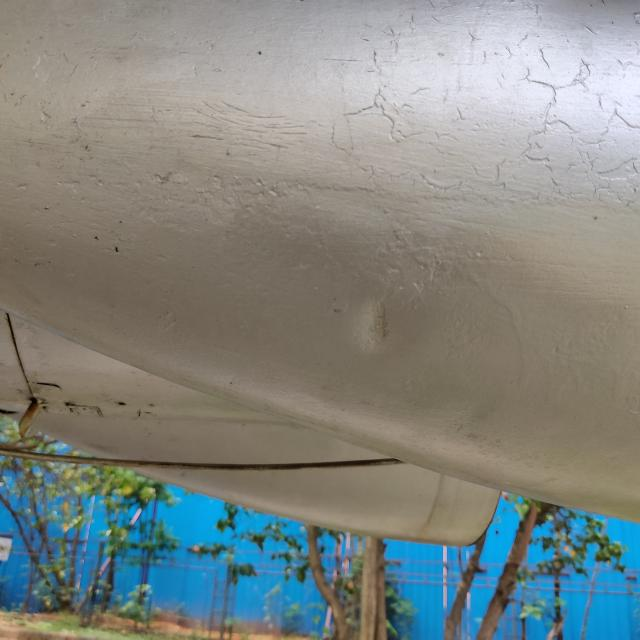dent: (326, 266, 436, 376)
